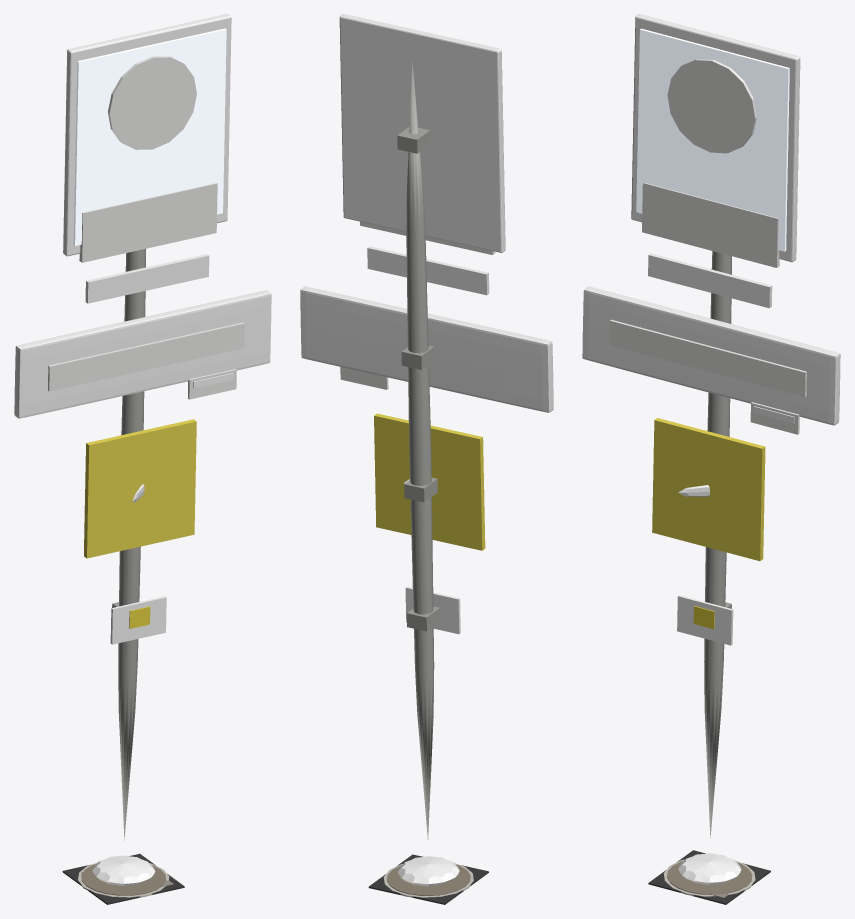
Rendered from hm_prop_sign_post_v2.glb.
The picture shows the model from 3 angles, left to right: view 1: azimuth 30°, elevation 25°; view 2: azimuth 150°, elevation 25°; view 3: azimuth 330°, elevation 25°; orthographic projection.
Parts seen in each view (by area): view 1: Sign_ParkRefl, Sign_Street, Sign_NoPark, Sign_Time, Sign_P, Sign_Park, Sign_Pole, Sign_Text, Sign_PW, hm_prop_sign_post_v2_UtilWarn, Sign_Base, hm_prop_sign_post_v2_Dirt (+2 smaller); view 2: Sign_Park, Sign_Street, Sign_Pole, Sign_NoPark, Sign_PW, Sign_Base, hm_prop_sign_post_v2_Dirt, hm_prop_sign_post_v2_UtilWarn, hm_prop_sign_post_v2_Shadow, Sign_Br_2.12, hm_prop_sign_post_v2_AssetPlate, Sign_Br_0.75 (+3 smaller); view 3: Sign_ParkRefl, Sign_Street, Sign_NoPark, Sign_Time, Sign_P, Sign_Park, Sign_Pole, Sign_Text, Sign_PW, hm_prop_sign_post_v2_UtilWarn, Sign_Base, hm_prop_sign_post_v2_Dirt (+2 smaller).
Boxes of the visible parts, left/top/right/bottom form: Sign_ParkRefl: left=73, top=28, right=226, bottom=245; Sign_Street: left=14, top=290, right=271, bottom=418; Sign_NoPark: left=84, top=419, right=196, bottom=558; Sign_Time: left=79, top=183, right=217, bottom=262; Sign_P: left=108, top=56, right=196, bottom=149; Sign_Park: left=63, top=14, right=231, bottom=256; Sign_Pole: left=118, top=249, right=145, bottom=840; Sign_Text: left=48, top=322, right=244, bottom=391; Sign_PW: left=85, top=254, right=209, bottom=303; hm_prop_sign_post_v2_UtilWarn: left=110, top=596, right=166, bottom=644; Sign_Base: left=92, top=855, right=155, bottom=886; hm_prop_sign_post_v2_Dirt: left=81, top=864, right=166, bottom=895; Sign_Park: left=339, top=14, right=505, bottom=252; Sign_Street: left=300, top=286, right=553, bottom=412; Sign_Pole: left=406, top=61, right=434, bottom=840; Sign_NoPark: left=374, top=413, right=485, bottom=550; Sign_PW: left=367, top=246, right=489, bottom=295; Sign_Base: left=397, top=856, right=459, bottom=886; hm_prop_sign_post_v2_Dirt: left=387, top=864, right=470, bottom=895; hm_prop_sign_post_v2_UtilWarn: left=405, top=586, right=460, bottom=634; hm_prop_sign_post_v2_Shadow: left=368, top=854, right=488, bottom=904; Sign_Br_2.12: left=397, top=126, right=430, bottom=153; hm_prop_sign_post_v2_AssetPlate: left=340, top=367, right=388, bottom=389; Sign_Br_0.75: left=406, top=606, right=440, bottom=631; Sign_ParkRefl: left=636, top=28, right=789, bottom=251; Sign_Street: left=582, top=286, right=840, bottom=425; Sign_NoPark: left=652, top=418, right=765, bottom=561; Sign_Time: left=642, top=182, right=779, bottom=267; Sign_P: left=667, top=59, right=756, bottom=153; Sign_Park: left=631, top=14, right=800, bottom=262; Sign_Pole: left=704, top=251, right=731, bottom=838; Sign_Text: left=609, top=319, right=806, bottom=397; Sign_PW: left=648, top=253, right=772, bottom=308; hm_prop_sign_post_v2_UtilWarn: left=677, top=595, right=733, bottom=645; Sign_Base: left=678, top=853, right=741, bottom=884; hm_prop_sign_post_v2_Dirt: left=667, top=861, right=752, bottom=894.
Bounding box in the file's own units: 0.7524 × 2.42 × 0.2376.
